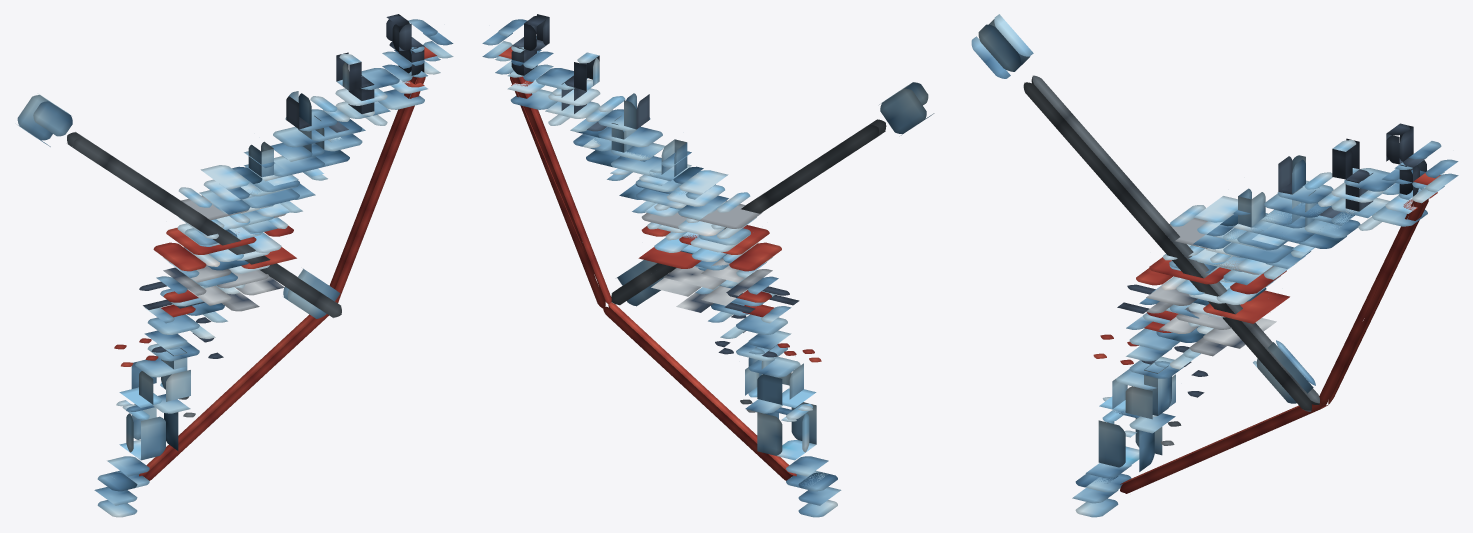
Rendered from hoarfrost_bow_pulling_1.obj.
3 views of the same model, side by side, from view 1: azimuth 30°, elevation 25°; view 2: azimuth 150°, elevation 25°; view 3: azimuth 330°, elevation 25° (orthographic). The views are drawn at different scales.
Visible parts, largest first — view 1: lit, fire; view 2: lit, fire; view 3: lit, fire.
Boxes of the visible parts, x1,y1,x2,y2 form: lit: (17, 14, 453, 517); fire: (177, 190, 340, 318); lit: (482, 14, 934, 517); fire: (617, 195, 758, 306); lit: (971, 14, 1458, 517); fire: (1161, 234, 1315, 403).
Bounding box in the file's own units: 1.08 × 1.06 × 0.1689.
